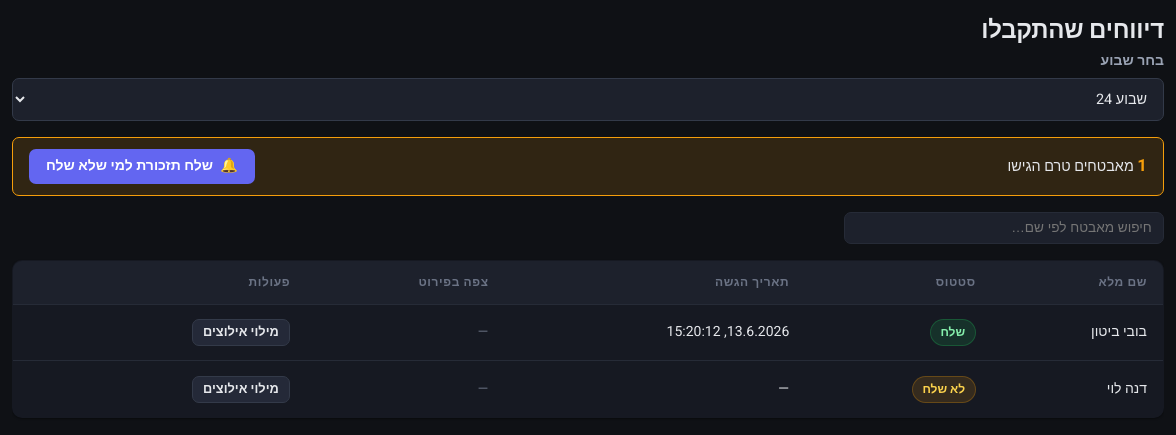
Test: SubmissionsPage — admin fill-constraints gating by week status › filters the submission rows by guard name
This screenshot has width=1176, height=435.
Type "בובי" into the search field at (1004, 228), box top-left (844, 212), bottom-right (1164, 244)
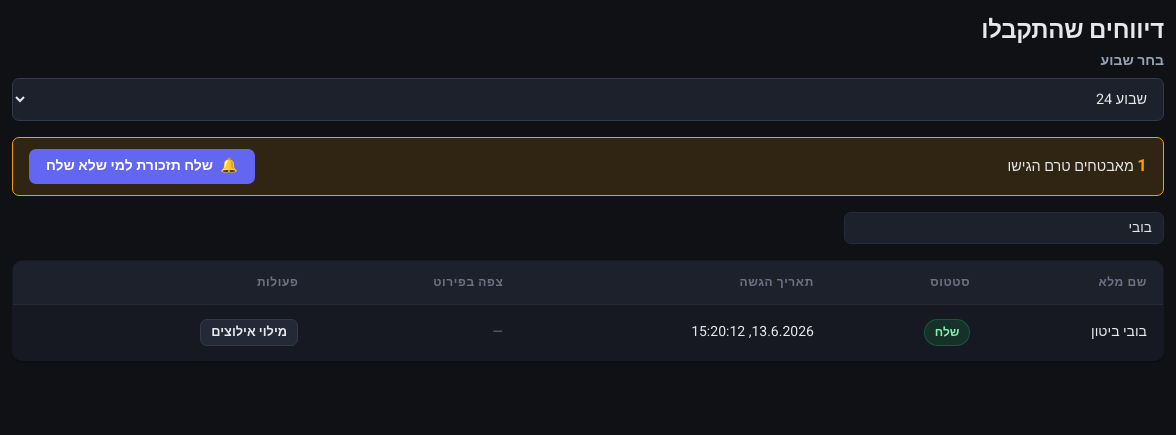
Expected: the text "בובי ביטון" is shown, top-left (986, 304), bottom-right (1164, 361)
Result: the text "דנה לוי" is gone
Replace the text in the search field with "רפאל" at (1004, 228), box top-left (844, 212), bottom-right (1164, 244)
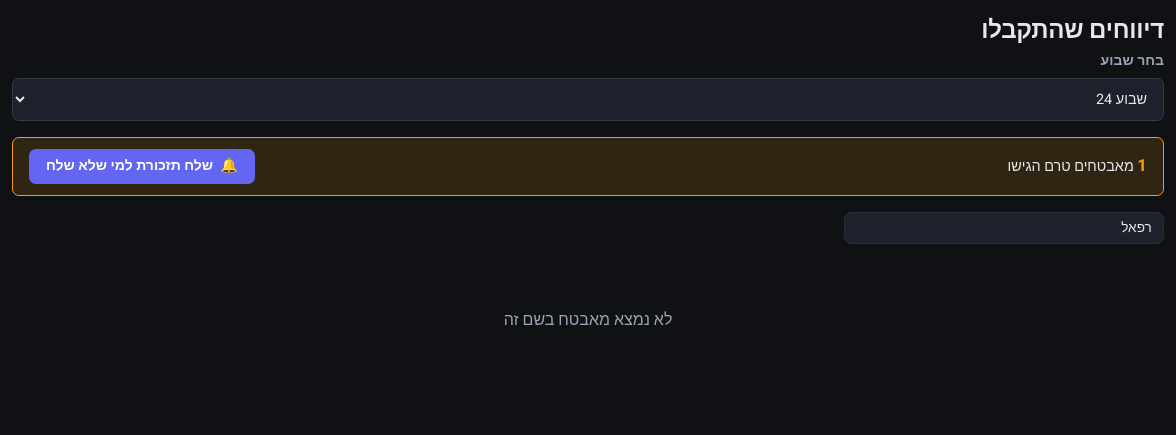
Result: the text "לא נמצא מאבטח בשם זה" is shown at top-left (504, 308), bottom-right (672, 332)
